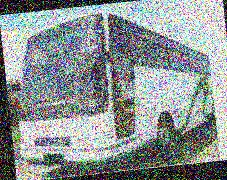bus: (8, 0, 217, 172)
